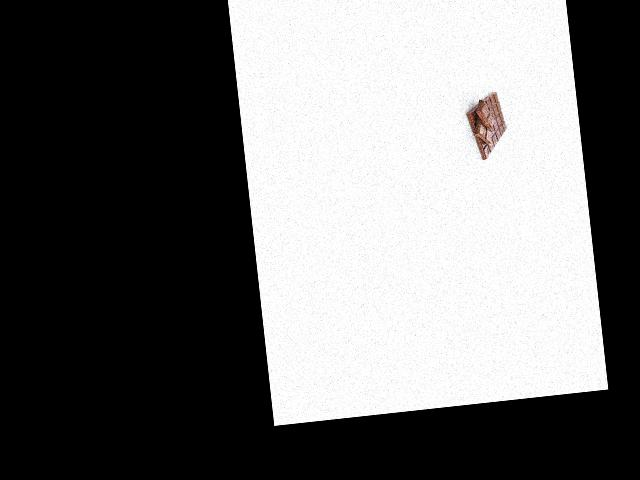chocolate: (461, 89, 513, 162)
